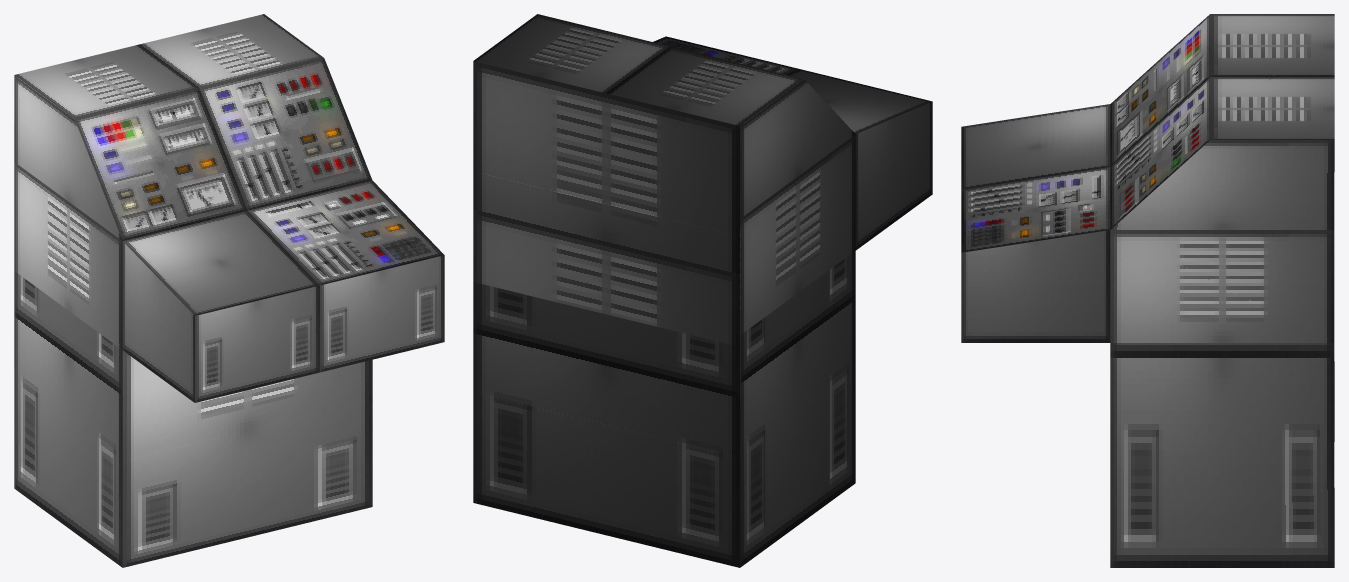
File: Pbridge_console2bZ.obj
3 renders of one model, left to right at view 1: azimuth 30°, elevation 25°; view 2: azimuth 150°, elevation 25°; view 3: azimuth 270°, elevation 25°, orthographic. The views are drawn at different scales.
Size of the model in its own units: 700 by 1108 by 876.
17 materials, 17 textured.
